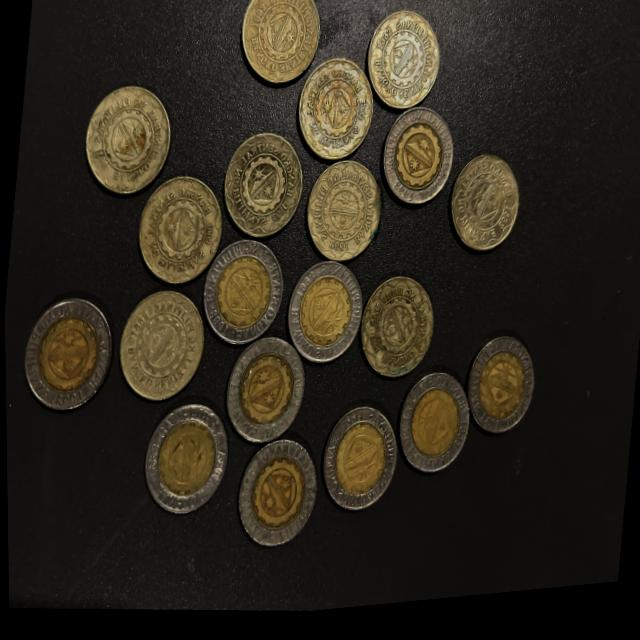10_Old_Back: (17, 288, 116, 420), (196, 232, 286, 353), (219, 333, 310, 452), (280, 259, 369, 374)
5_Old_Back: (79, 78, 177, 201), (298, 157, 384, 277), (232, 0, 327, 97), (361, 16, 448, 119), (145, 182, 212, 277)
